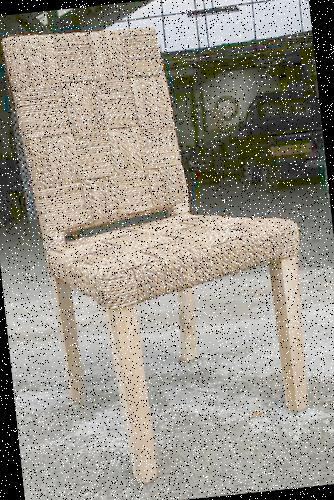Silla: (0, 9, 315, 486)
